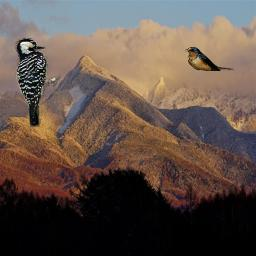Swallow: (185, 47, 234, 71)
Woodpecker: (14, 36, 61, 127)
